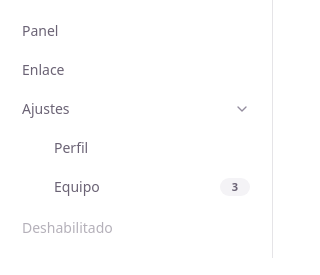
Test: Sidebar › el grupo se pliega/despliega y oculta el sublist con [hidden]
Click the button with class "gmz-sidebar__group".
click(136, 108)  # box [12,90,260,127]
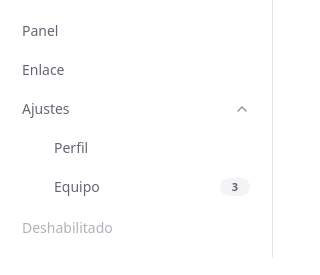
expect the button with class "gmz-sidebar__group" is expanded: met, box [12,90,260,127]
